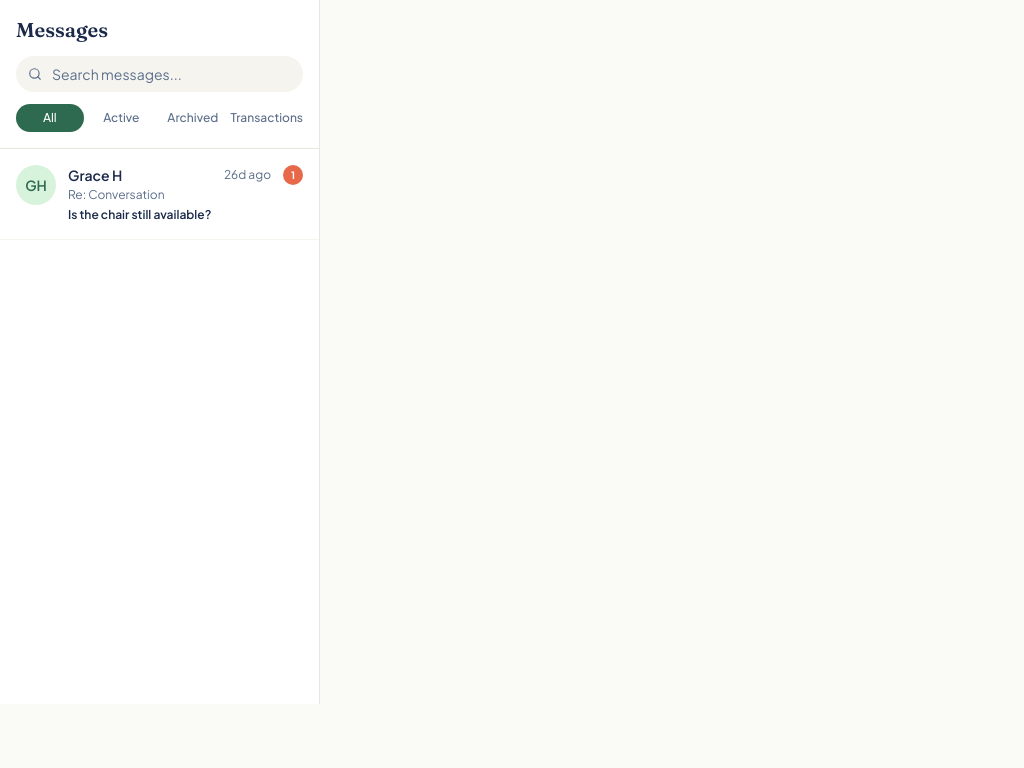
Test: Message report control › reports the other person's latest message from the shield button
Click the text "Grace H" at [95, 175], box left=68, top=165, right=122, bottom=185
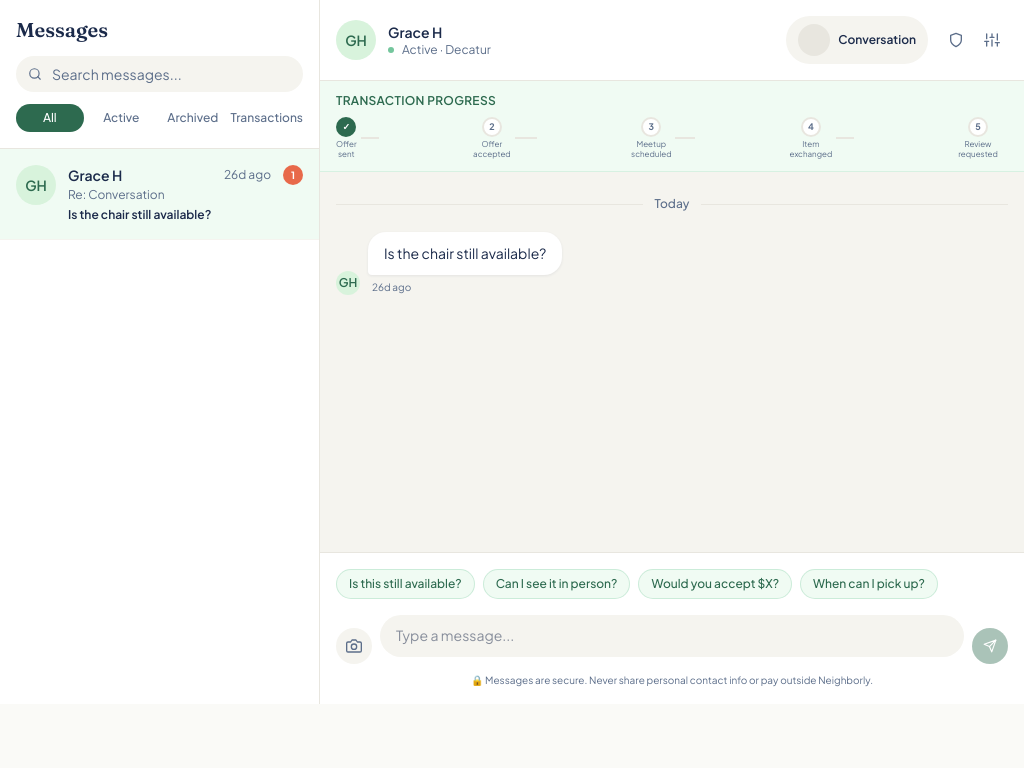
Click the button named "Report this conversation" at [956, 40], box left=940, top=24, right=972, bottom=56
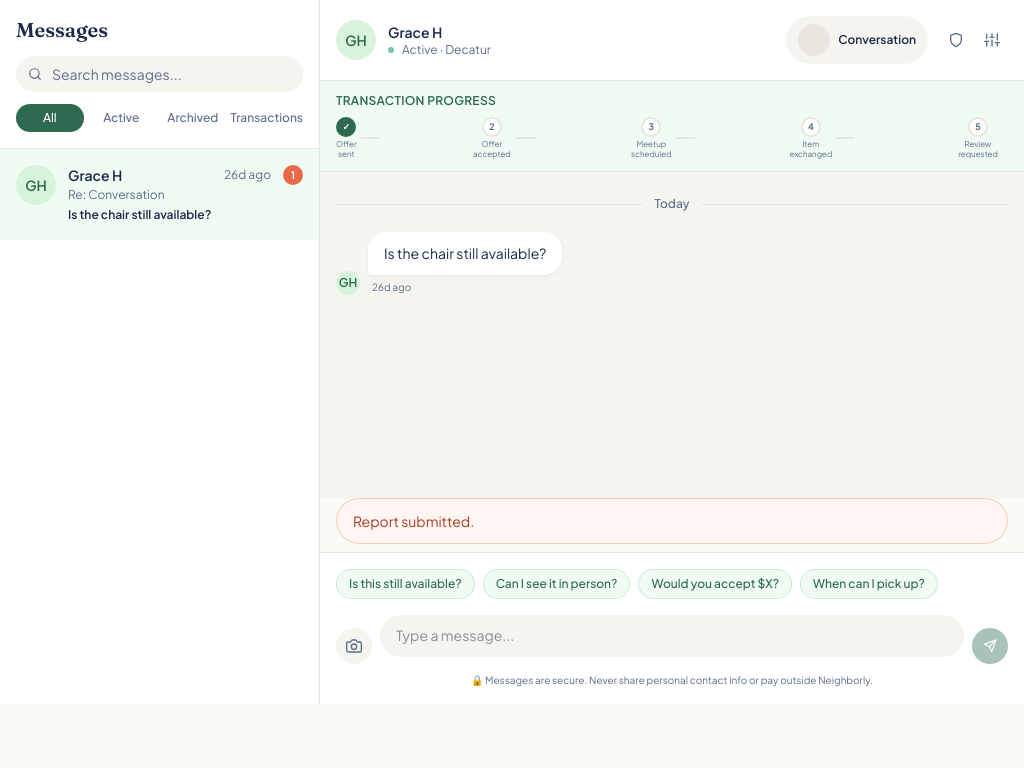
Check: the text "Report submitted." is shown, box left=336, top=498, right=1008, bottom=544
